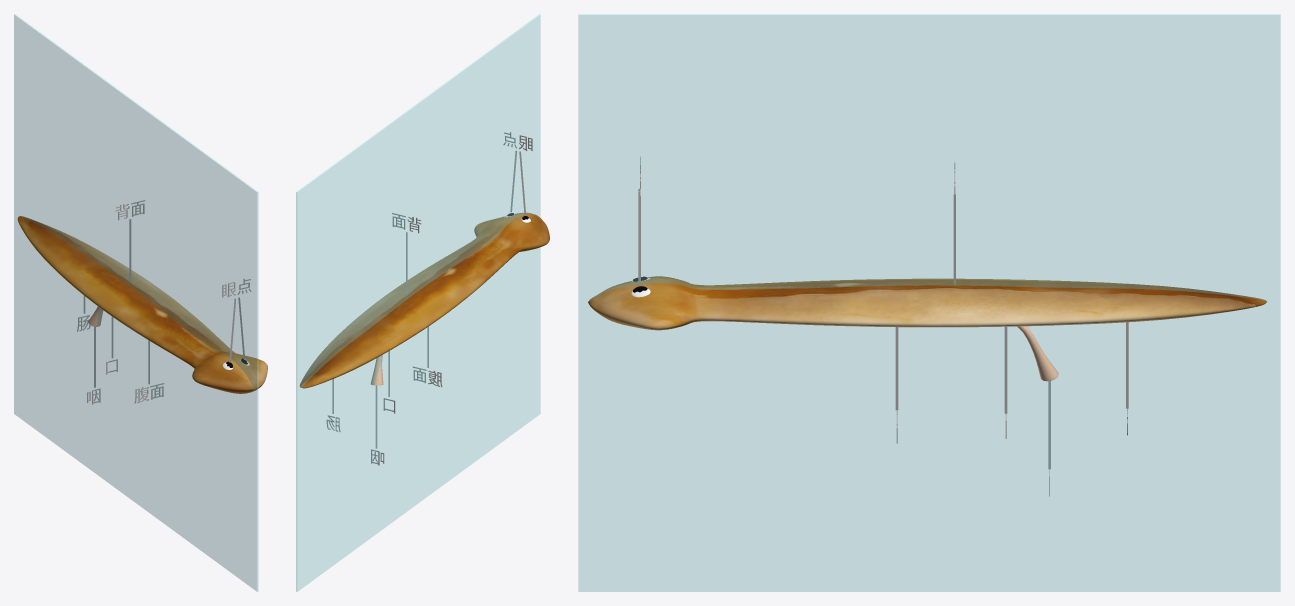
3 renders of one model, left to right at view 1: azimuth 30°, elevation 25°; view 2: azimuth 150°, elevation 25°; view 3: azimuth 270°, elevation 25°, orthographic. The views are drawn at different scales.
Parts seen in each view (by area): view 1: pian, _zhuti; view 2: pian, _zhuti; view 3: pian, _zhuti.
Part boxes in pixels (x1,y1,x2,y2): pian: (14,14,258,591); _zhuti: (17,216,267,393); pian: (296,14,540,591); _zhuti: (300,212,549,388); pian: (578,14,1280,591); _zhuti: (588,276,1266,330).
Bounding box in the file's own units: 17.63 × 94.72 × 105.
Materials: 6 (1 with a texture image).
